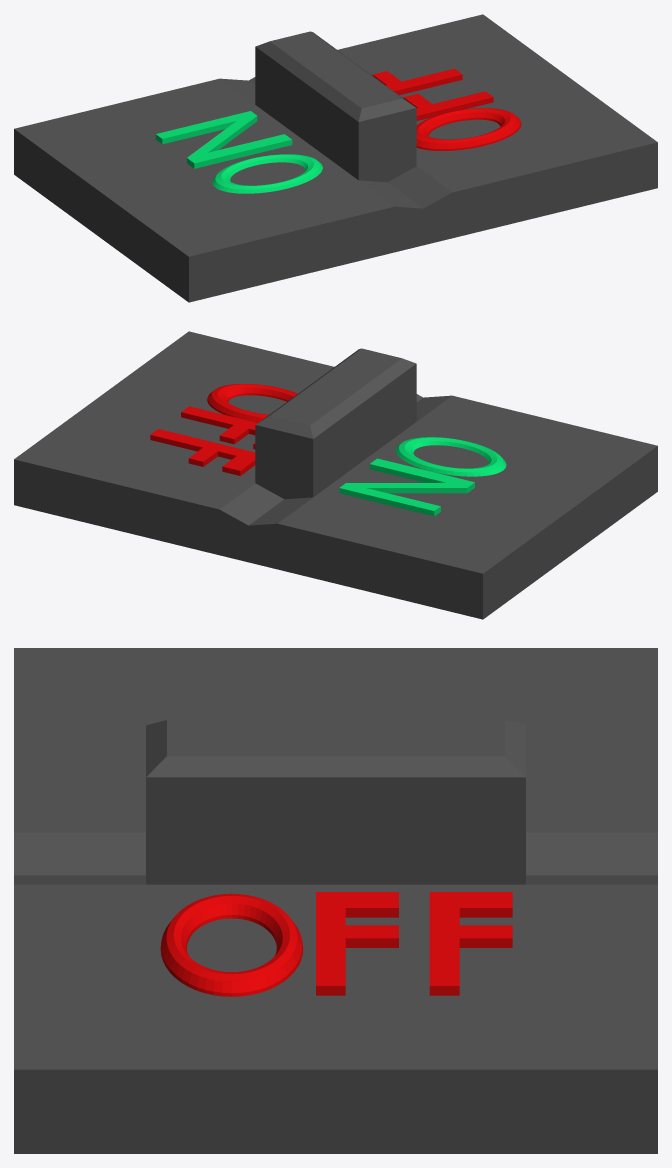
File: Lever_Body.fbx
3 renders of one model, top to bottom at view 1: azimuth 30°, elevation 25°; view 2: azimuth 150°, elevation 25°; view 3: azimuth 270°, elevation 25°, orthographic. The views are drawn at different scales.
Parts seen in each view (by area): view 1: Cube.001; view 2: Cube.001; view 3: Cube.001.
Boxes of the visible parts, x1=… form: Cube.001: x1=14, y1=14, x2=657, y2=302; Cube.001: x1=14, y1=331, x2=657, y2=619; Cube.001: x1=14, y1=648, x2=657, y2=1153.
Size of the model in its own units: 282 by 64.1 by 182.
